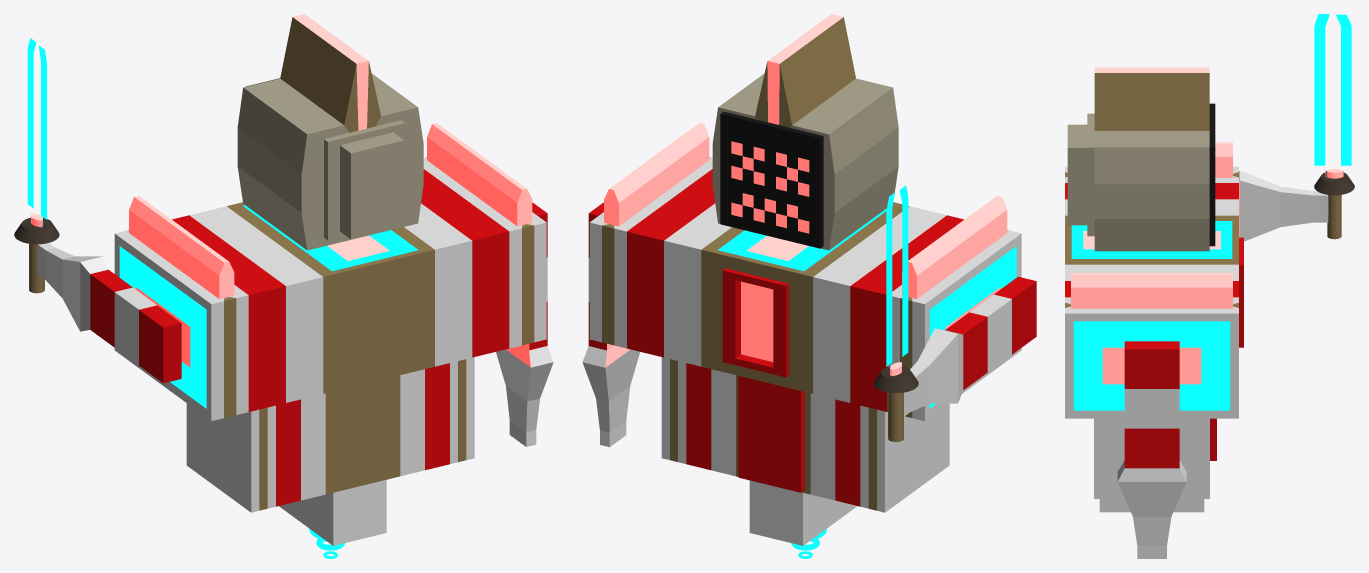
File: MeleeType2.fbx
3 renders of one model, left to right at view 1: azimuth 30°, elevation 25°; view 2: azimuth 150°, elevation 25°; view 3: azimuth 270°, elevation 25°, orthographic. The views are drawn at different scales.
Visible parts, largest first — view 1: Melee2; view 2: Melee2; view 3: Melee2.
Boxes of the visible parts, left/top/right/bottom form: Melee2: left=14, top=14, right=553, bottom=558; Melee2: left=582, top=14, right=1036, bottom=558; Melee2: left=1065, top=14, right=1354, bottom=558.
Bounding box in the file's own units: 372 × 442 × 250.
